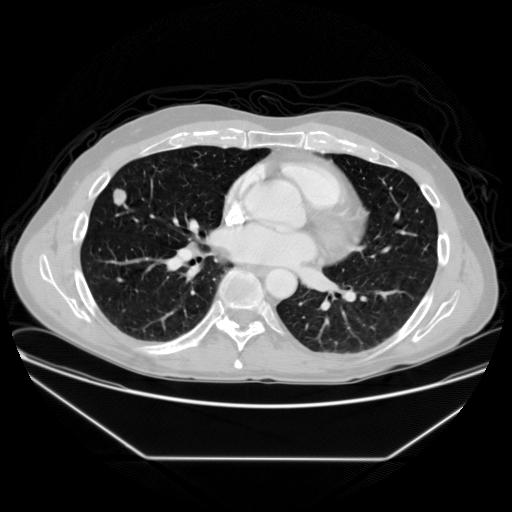nodule: (109, 186, 130, 207)
